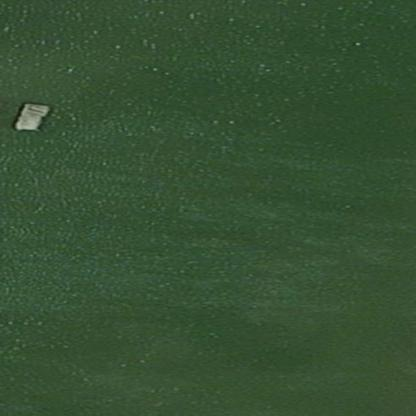ship: (10, 101, 49, 134)
